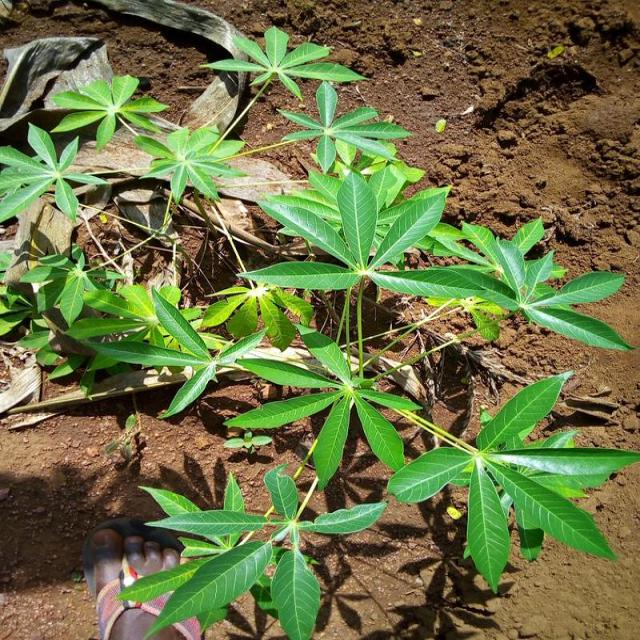cassava leaf: (386, 369, 638, 594)
